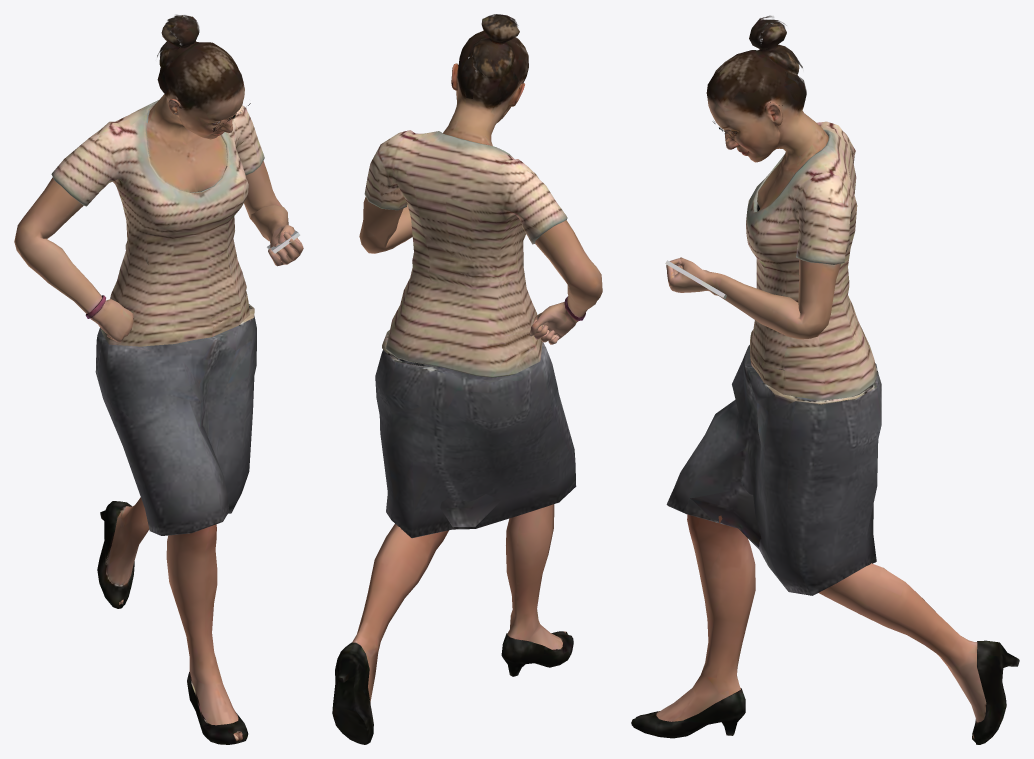
The picture shows the model from 3 angles, left to right: view 1: azimuth 30°, elevation 25°; view 2: azimuth 150°, elevation 25°; view 3: azimuth 270°, elevation 25°; orthographic projection. The views are drawn at different scales.
Parts seen in each view (by area): view 1: p04448; view 2: p04448; view 3: p04448.
Boxes of the visible parts, x1=… form: p04448: x1=14, y1=14, x2=303, y2=744; p04448: x1=332, y1=14, x2=602, y2=744; p04448: x1=631, y1=15, x2=1019, y2=744.
Bounding box in the file's own units: 0.6507 × 1.68 × 0.8249.
1 material, 1 textured.
